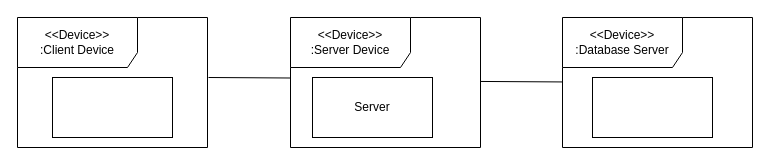
Some shapes in this 770 by 165 pixel diagram are drawn without their labels. The centre of each missing label's shape, as x and y in pixels:
Client: point (112, 107)
SQL database: point (652, 107)
